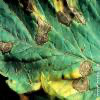Tomato Early blight leaf: (0, 1, 100, 100)
